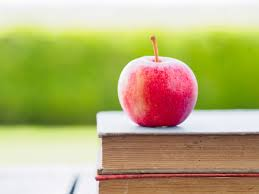apple: (118, 55, 201, 119)
